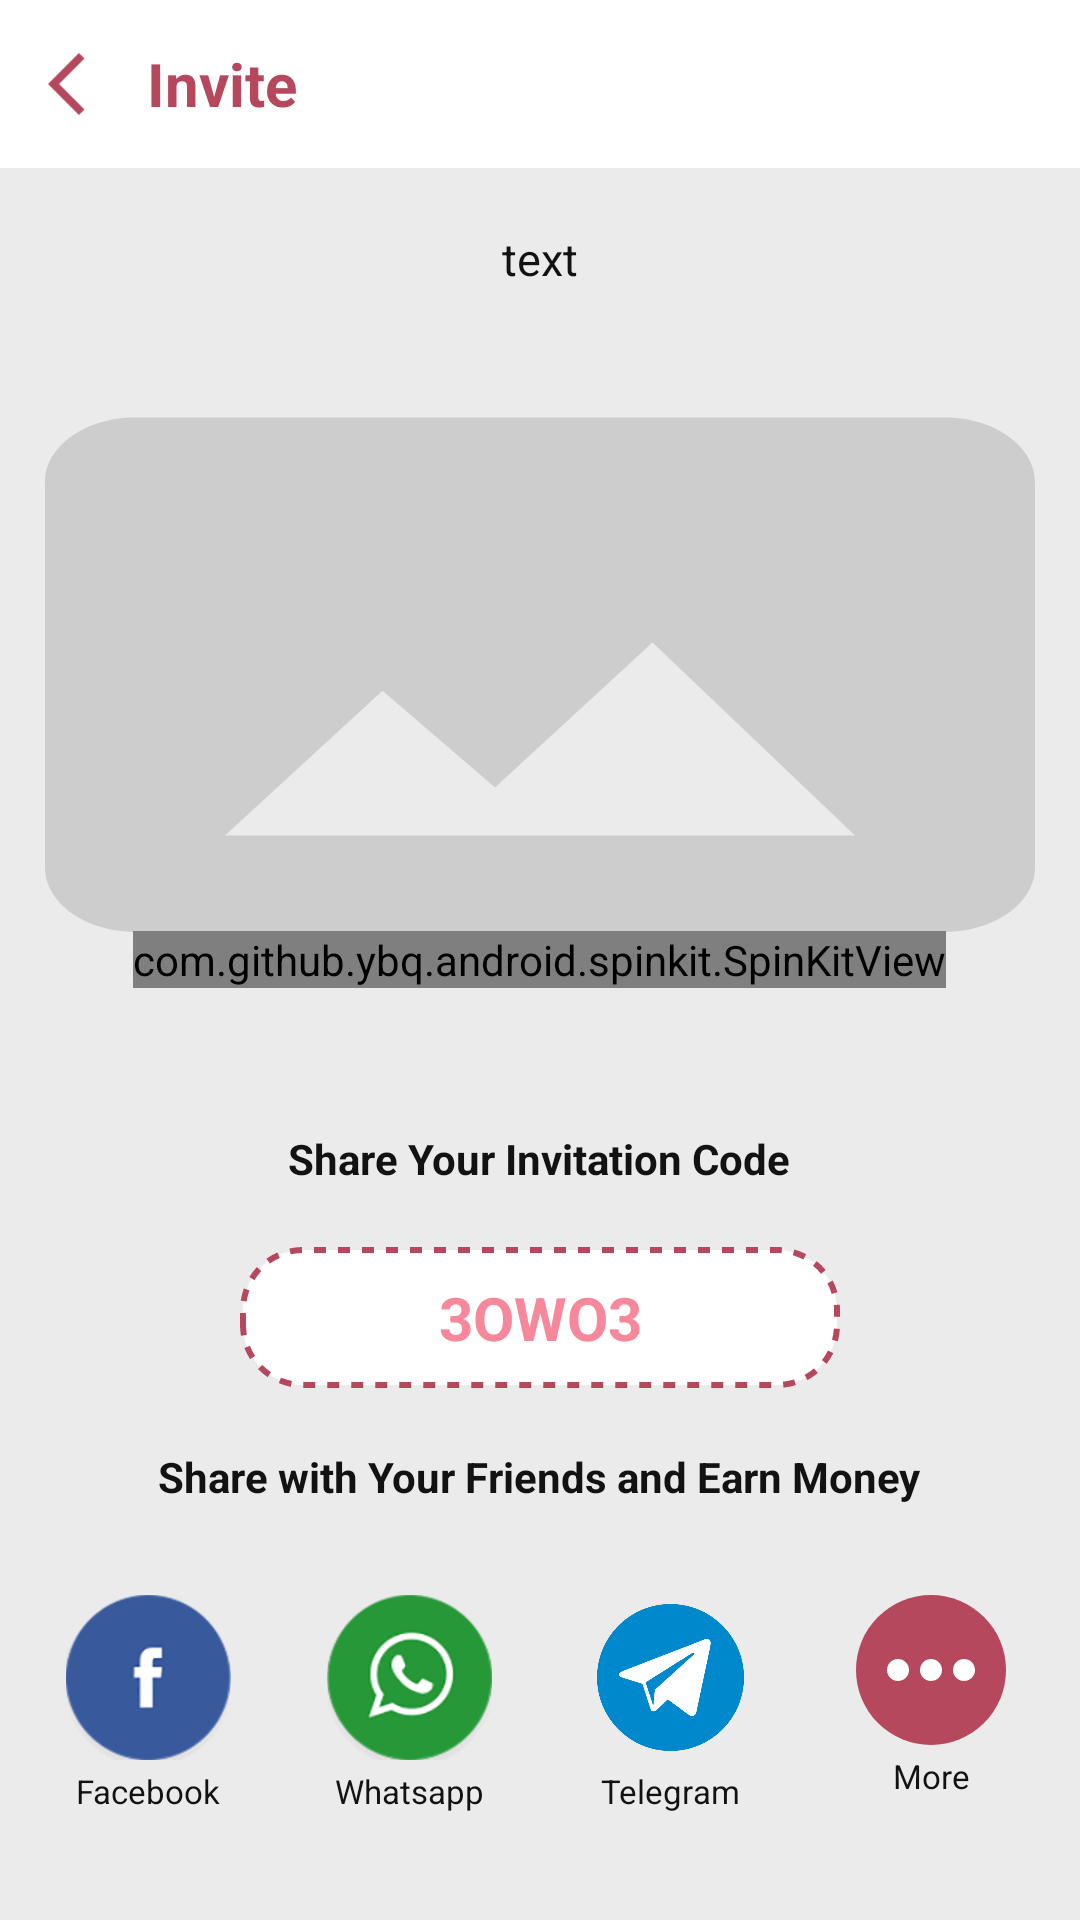

Icon click points for this 1080*1920 phone screenshot, format (x,y):
arrow back: (66,84)
